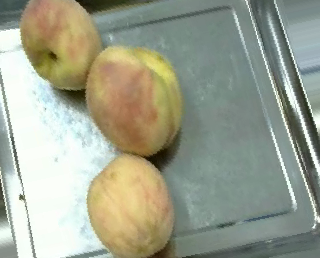Peach: (86, 43, 182, 157), (87, 153, 173, 256), (19, 0, 101, 91)
